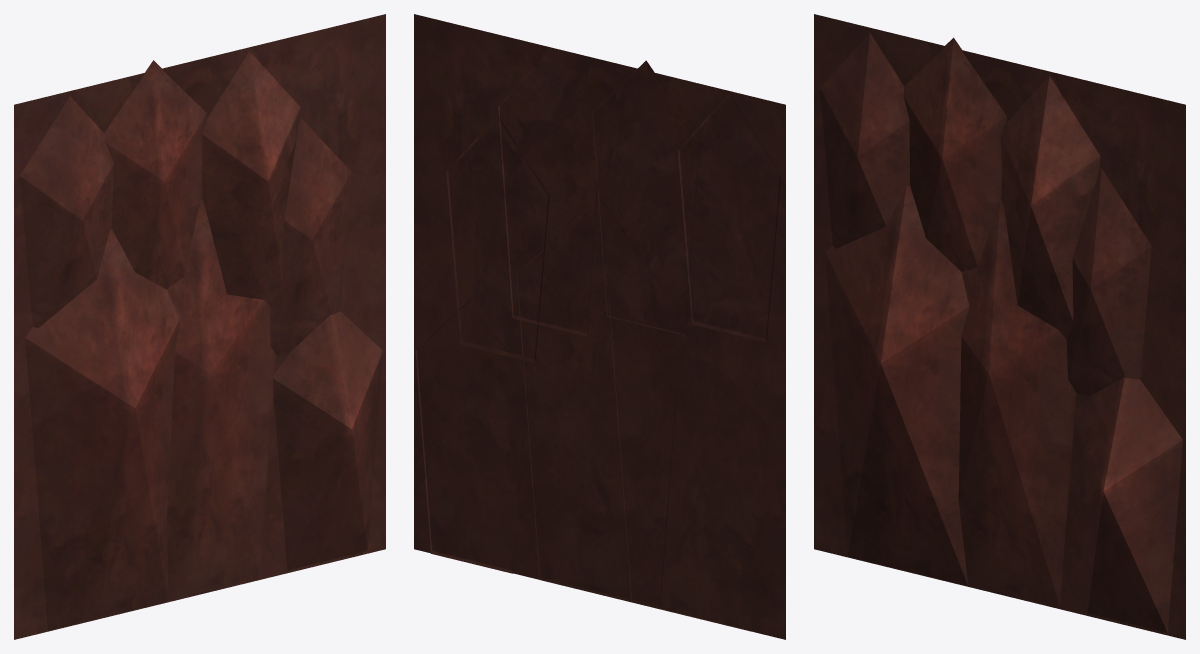
Rendered from lava_wall_straight_04.fbx.
3 views of the same model, side by side, from view 1: azimuth 30°, elevation 25°; view 2: azimuth 150°, elevation 25°; view 3: azimuth 330°, elevation 25° (orthographic).
Parts seen in each view (by area): view 1: obj1.003; view 2: obj1.003; view 3: obj1.003.
Boxes of the visible parts, x1,y1,x2,y2 form: obj1.003: (14, 14, 385, 639); obj1.003: (414, 14, 785, 639); obj1.003: (814, 14, 1185, 639).
Size of the model in its own units: 4 by 5.61 by 0.5154.
